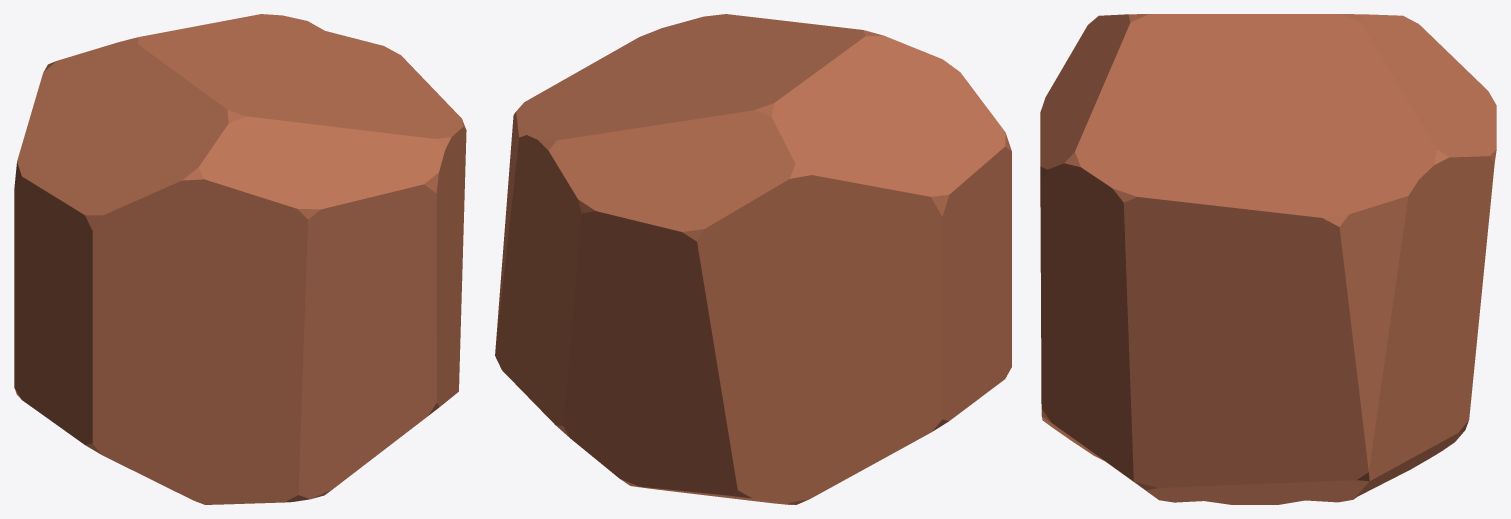
Rendered from Rock_05.fbx.
3 views of the same model, side by side, from view 1: azimuth 30°, elevation 25°; view 2: azimuth 150°, elevation 25°; view 3: azimuth 270°, elevation 25° (orthographic). The views are drawn at different scales.
Visible parts, largest first — view 1: Rock_05; view 2: Rock_05; view 3: Rock_05.
Part boxes in pixels (<box>): Rock_05: <box>14,14,466,504</box>; Rock_05: <box>495,14,1011,504</box>; Rock_05: <box>1040,14,1496,504</box>.
Size of the model in its own units: 369 by 337 by 338.
